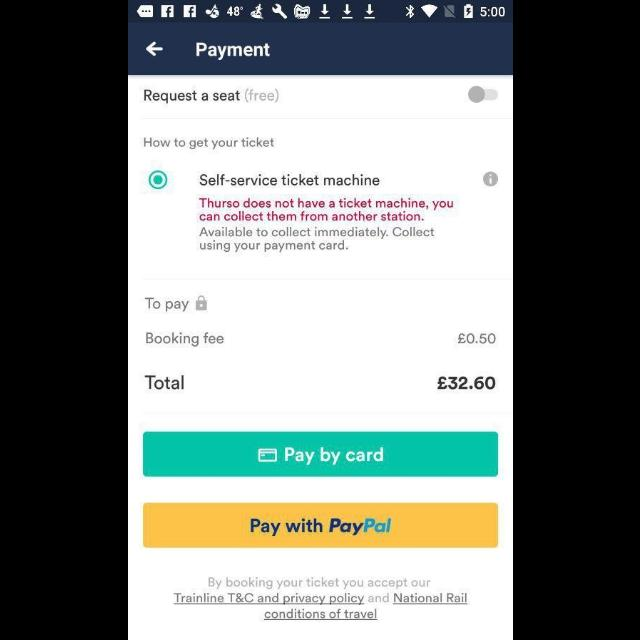checkbox: (147, 170, 165, 188)
icon: (482, 171, 498, 187), (145, 42, 163, 56), (194, 295, 206, 311)
switch: (468, 86, 498, 104)
text: (173, 578, 467, 620), (198, 226, 434, 252), (198, 198, 452, 222), (200, 174, 378, 186), (142, 138, 274, 150), (144, 91, 240, 105), (144, 332, 223, 348), (196, 44, 270, 60), (436, 376, 496, 390), (144, 374, 183, 390), (145, 298, 189, 312), (244, 88, 278, 104), (458, 334, 496, 344)
textbutton: (142, 502, 498, 548), (142, 432, 498, 476)
uppertaskbar: (128, 1, 512, 23)
